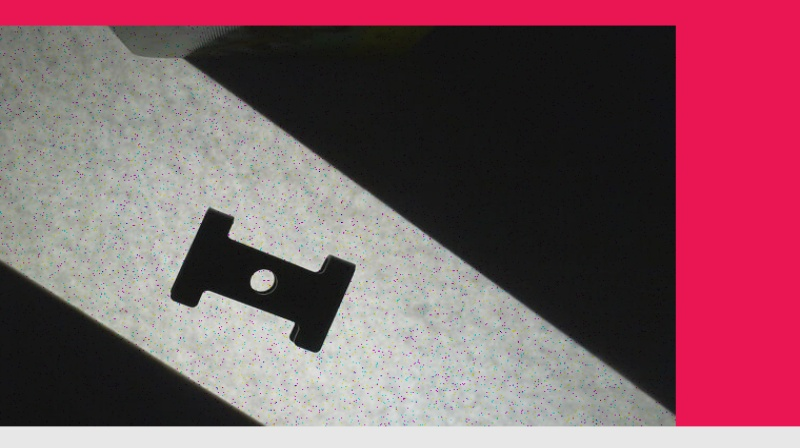O002: (167, 202, 359, 353)
